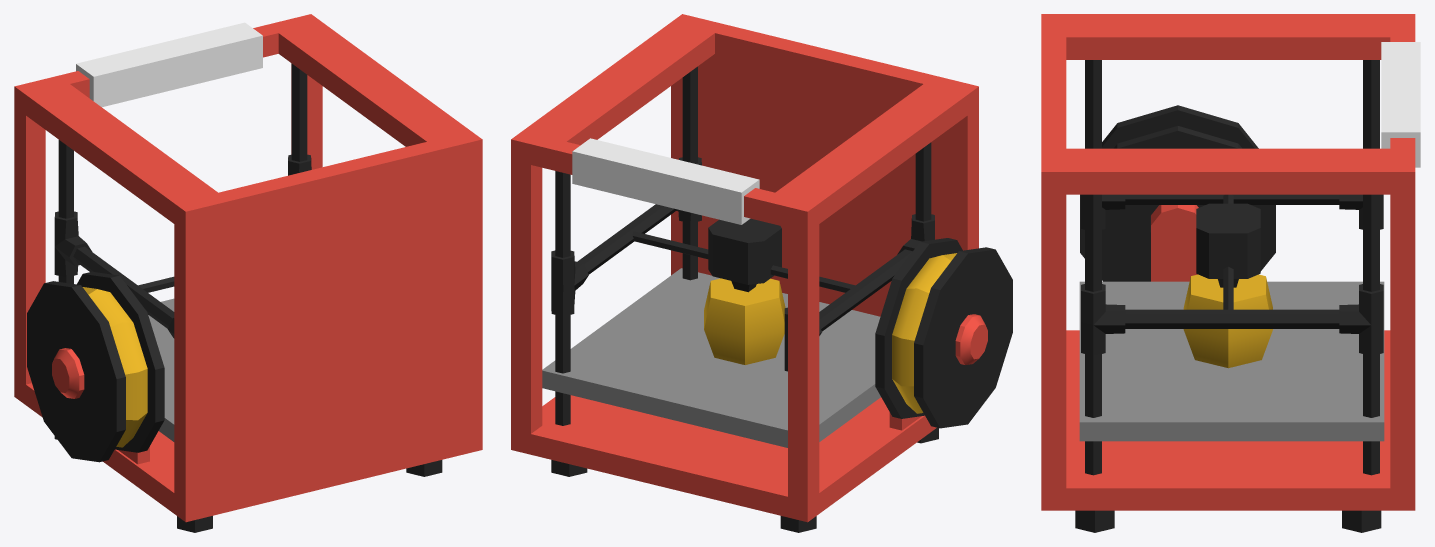
The model's file is 3dPrinter.glb.
3 views of the same model, side by side, from view 1: azimuth 30°, elevation 25°; view 2: azimuth 150°, elevation 25°; view 3: azimuth 270°, elevation 25° (orthographic). The views are drawn at different scales.
Visible parts, largest first — view 1: mesh_tech_printer3d_01; view 2: mesh_tech_printer3d_01; view 3: mesh_tech_printer3d_01.
Part boxes in pixels (<box>): mesh_tech_printer3d_01: <box>14,14,482,532</box>; mesh_tech_printer3d_01: <box>511,14,1012,532</box>; mesh_tech_printer3d_01: <box>1041,14,1420,532</box>.
Bounding box in the file's own units: 0.7969 × 0.7285 × 0.6671.
1 material, 1 textured.
